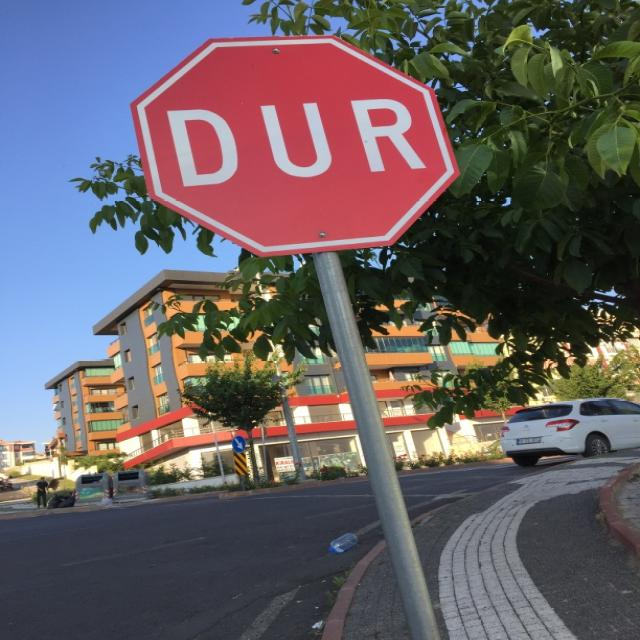dur: (127, 34, 461, 259)
